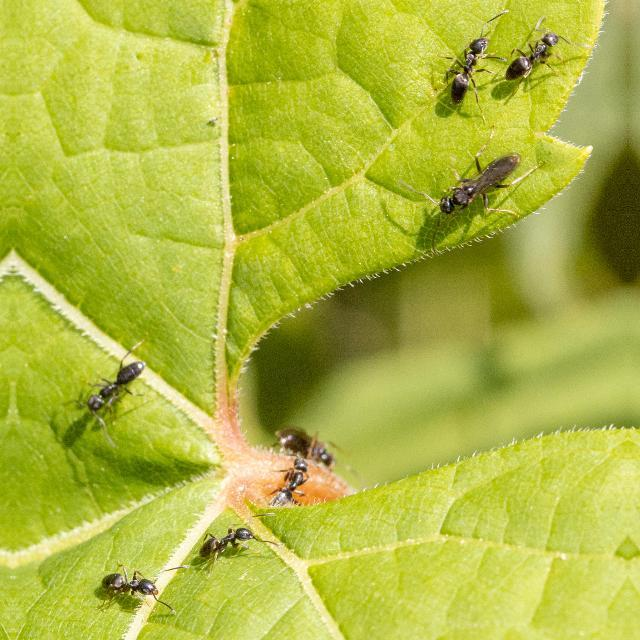Tapinoma: (422, 140, 530, 230), (70, 344, 154, 426), (434, 26, 498, 112), (500, 18, 574, 92), (190, 516, 262, 572), (96, 556, 170, 610), (269, 417, 341, 471), (262, 457, 316, 519)
